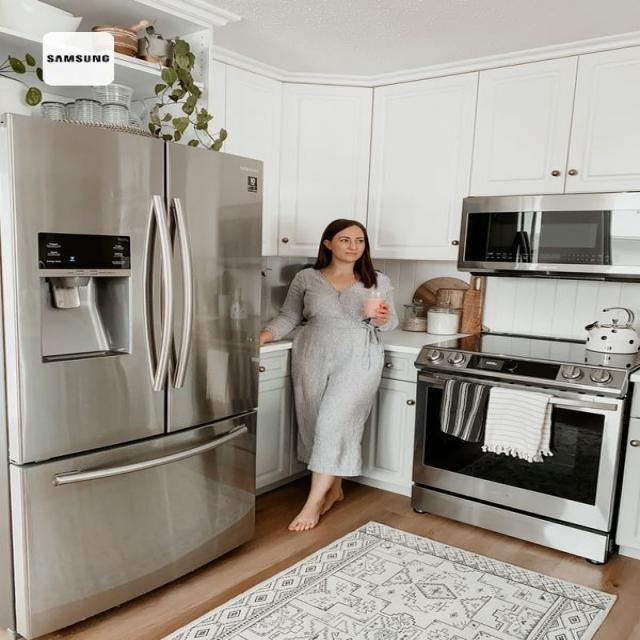obstacle: (0, 111, 263, 638), (467, 42, 639, 196), (366, 69, 478, 261), (342, 348, 420, 497)
person: (258, 218, 399, 532)
